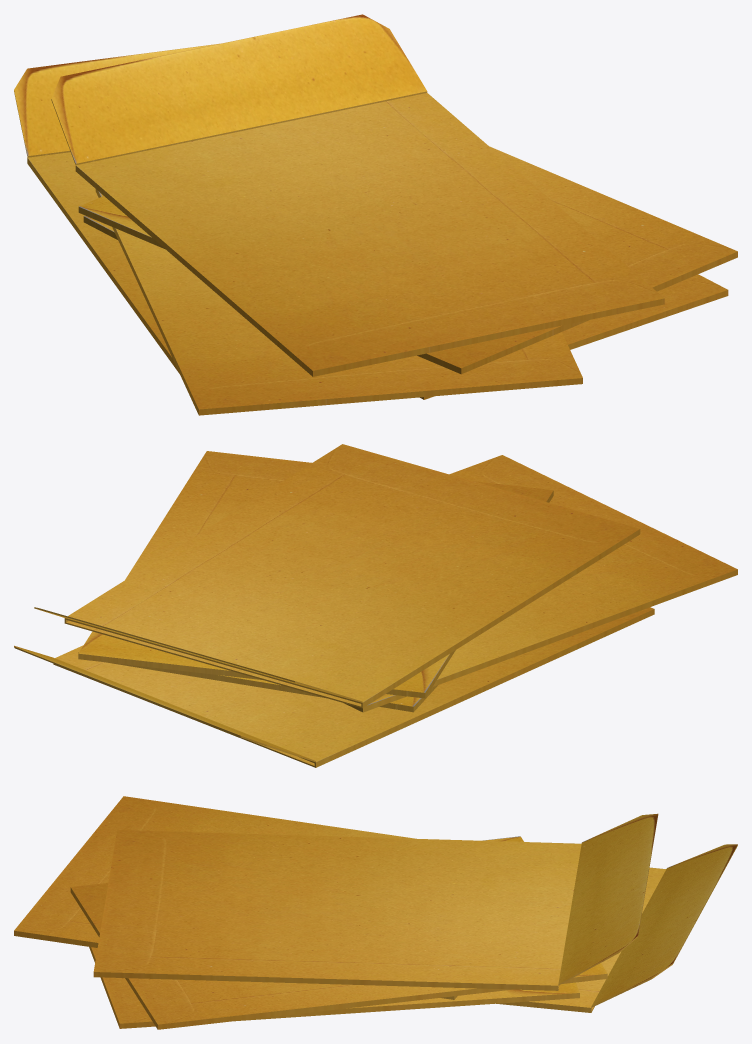
The model's file is KraftEnvelopes_MessyStack.fbx.
3 renders of one model, top to bottom at view 1: azimuth 30°, elevation 25°; view 2: azimuth 150°, elevation 25°; view 3: azimuth 270°, elevation 25°, orthographic. The views are drawn at different scales.
Parts seen in each view (by area): view 1: KraftEnvelopes_MessyStack; view 2: KraftEnvelopes_MessyStack; view 3: KraftEnvelopes_MessyStack.
Boxes of the visible parts, box(x1,y1,x2,y2) form: KraftEnvelopes_MessyStack: box(14, 14, 737, 415); KraftEnvelopes_MessyStack: box(14, 444, 737, 767); KraftEnvelopes_MessyStack: box(14, 796, 737, 1029).
Bounding box in the file's own units: 38.76 × 5.57 × 50.51.
